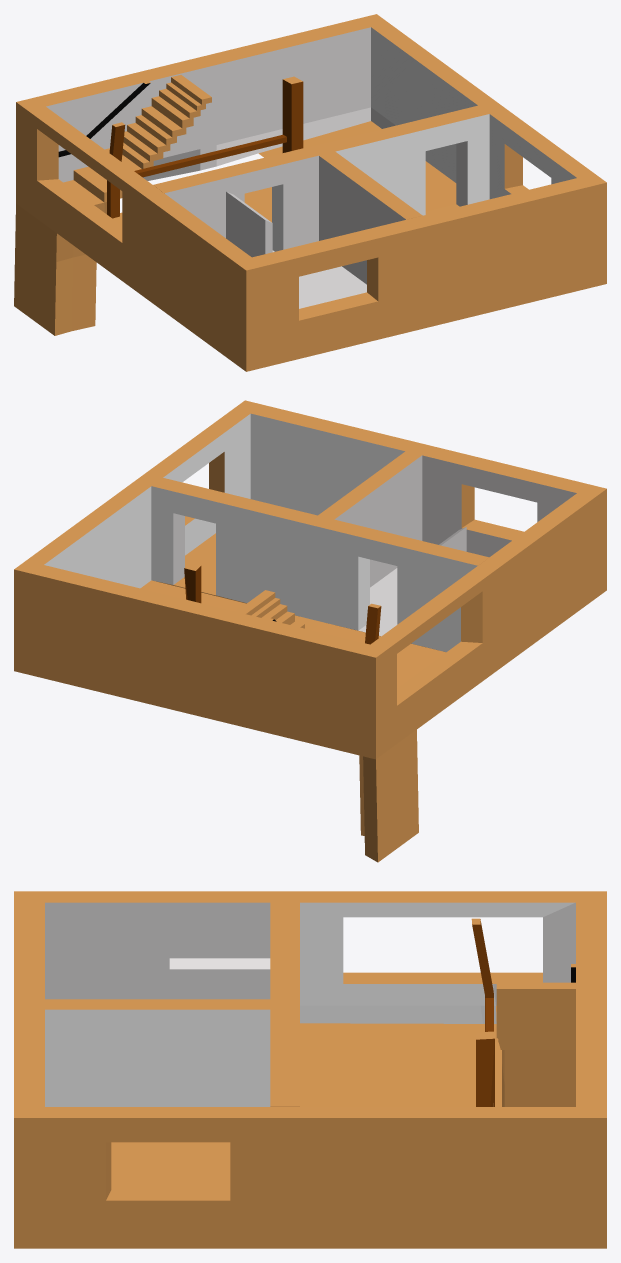
The model's file is muur.fbx.
The picture shows the model from 3 angles, top to bottom: view 1: azimuth 30°, elevation 25°; view 2: azimuth 150°, elevation 25°; view 3: azimuth 270°, elevation 25°; orthographic projection. The views are drawn at different scales.
Visible parts, largest first — view 1: 1 boven; view 2: 1 boven; view 3: 1 boven.
Part boxes in pixels (x1,y1,x2,y2): 1 boven: (14,14,606,371); 1 boven: (14,400,606,862); 1 boven: (14,891,606,1248).
Bounding box in the file's own units: 19977 × 10857 × 21959.
